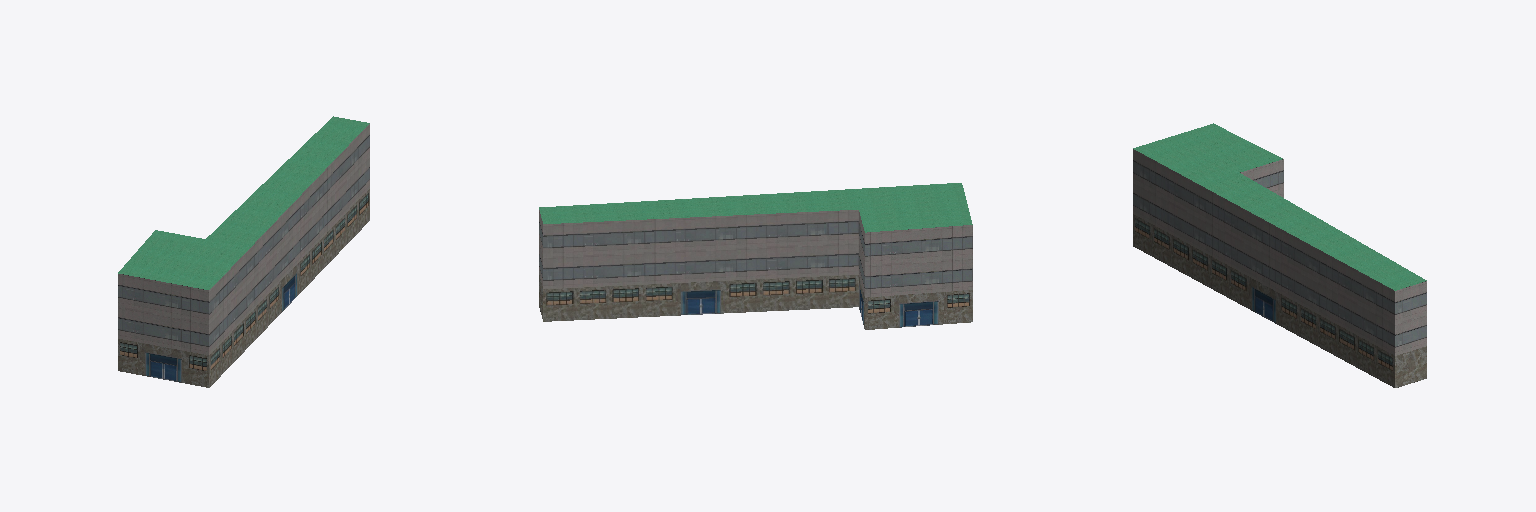
3 views of the same model, side by side, from view 1: azimuth 30°, elevation 25°; view 2: azimuth 150°, elevation 25°; view 3: azimuth 270°, elevation 25° (orthographic).
Visible parts, largest first — view 1: BuildingMaster_[number redacted]_0, BuildingMaster_[number redacted]_1; view 2: BuildingMaster_[number redacted]_0, BuildingMaster_[number redacted]_1; view 3: BuildingMaster_[number redacted]_0, BuildingMaster_[number redacted]_1.
Part boxes in pixels (x1,y1,x2,y2): BuildingMaster_[number redacted]_0: (118,124,369,387); BuildingMaster_[number redacted]_1: (118,116,369,289); BuildingMaster_[number redacted]_0: (539,210,972,329); BuildingMaster_[number redacted]_1: (539,183,972,232); BuildingMaster_[number redacted]_0: (1133,149,1426,387); BuildingMaster_[number redacted]_1: (1133,123,1426,290).
Size of the model in its own units: 38.65 by 10.5 by 28.75.
Materials: 2 (2 with a texture image).